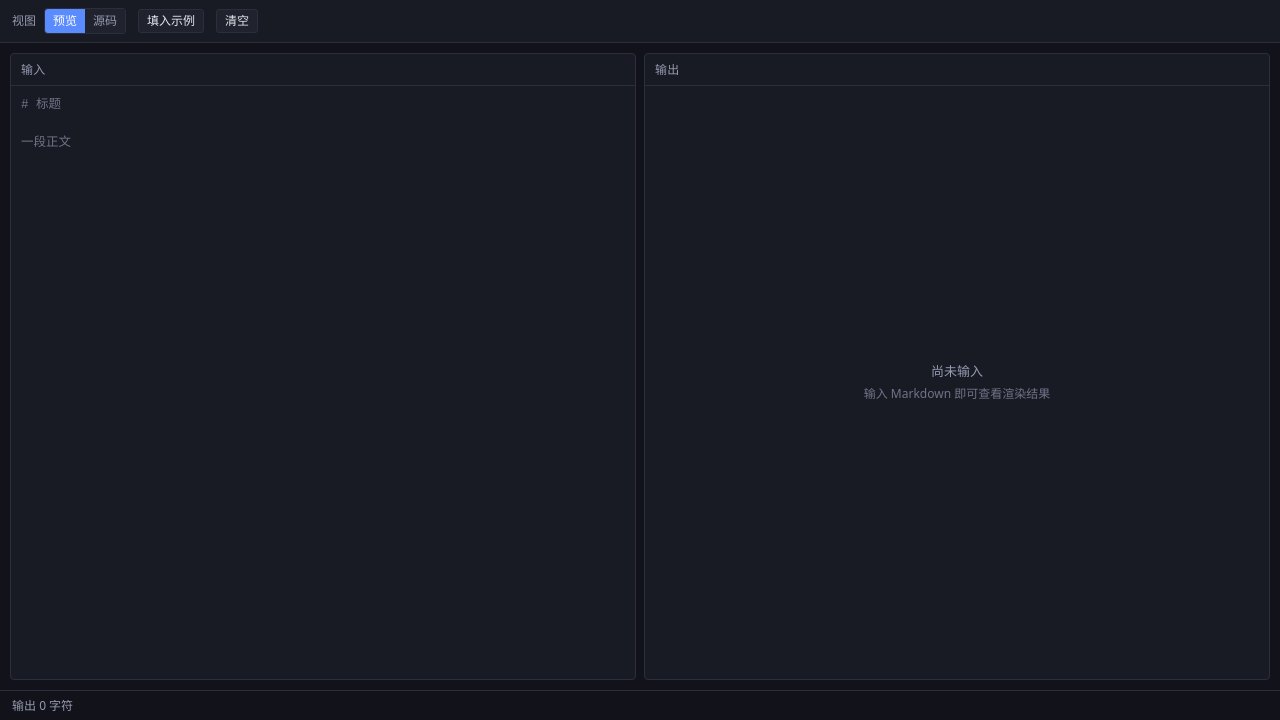
it: Markdown 转 HTML 工具 › 源码视图展示 HTML 源码并可直接复制
Type "# 标题" into the text box named "Markdown 源码" at point(323, 227), box [11,86,635,368]
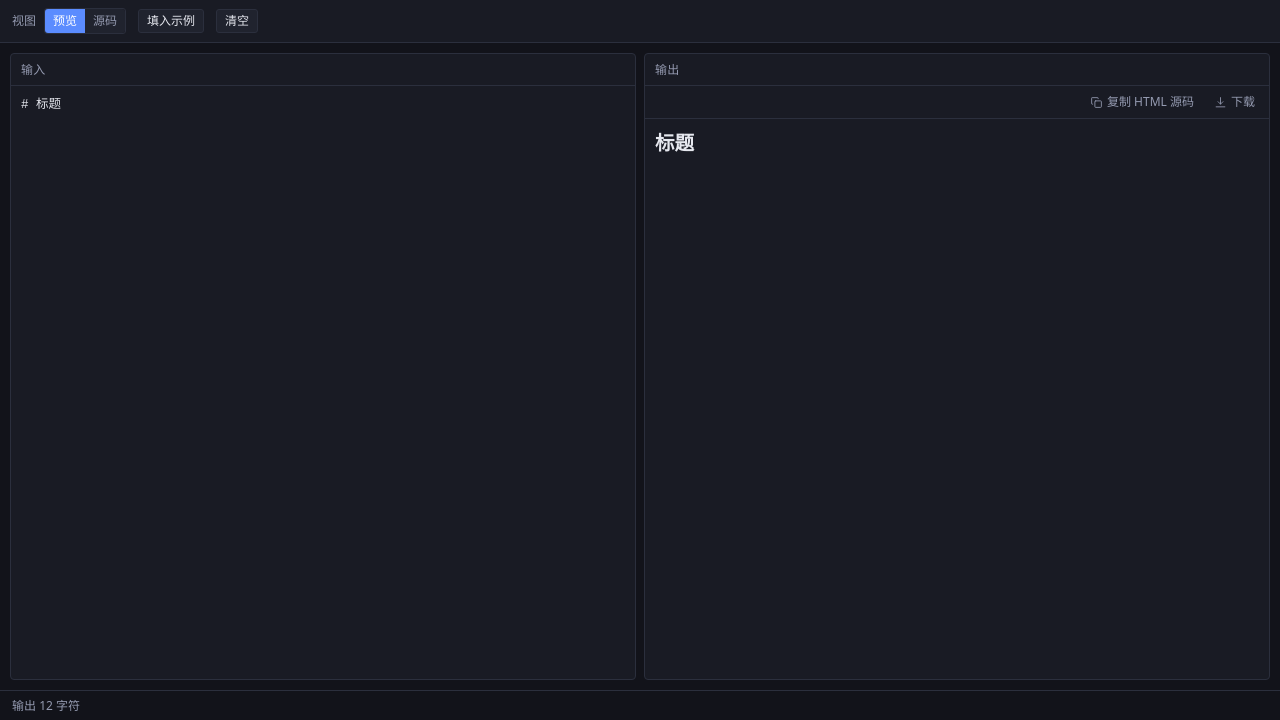
Click the button "源码" at point(105, 21), box [85,9,125,33]
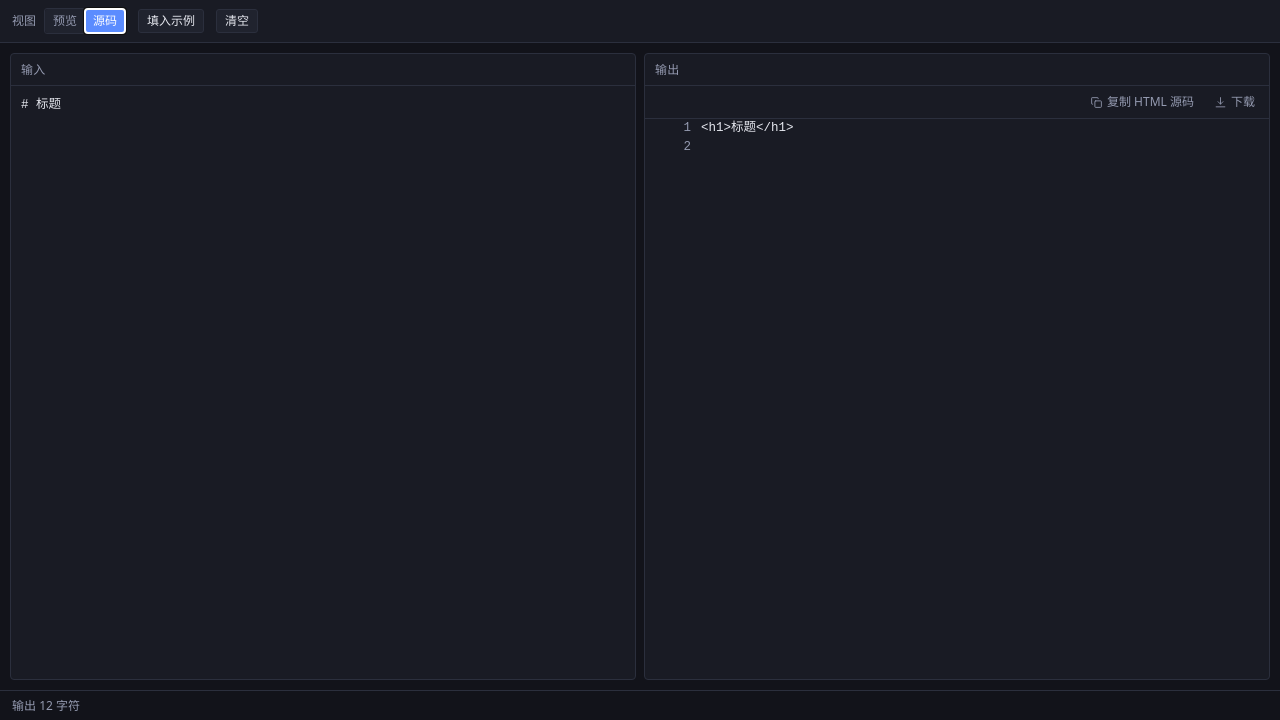
Check: the button "复制 HTML 源码" is shown, box [1082,90,1202,114]
Check: the text "<h1>标题</h1>" is shown, box [701,119,794,138]
